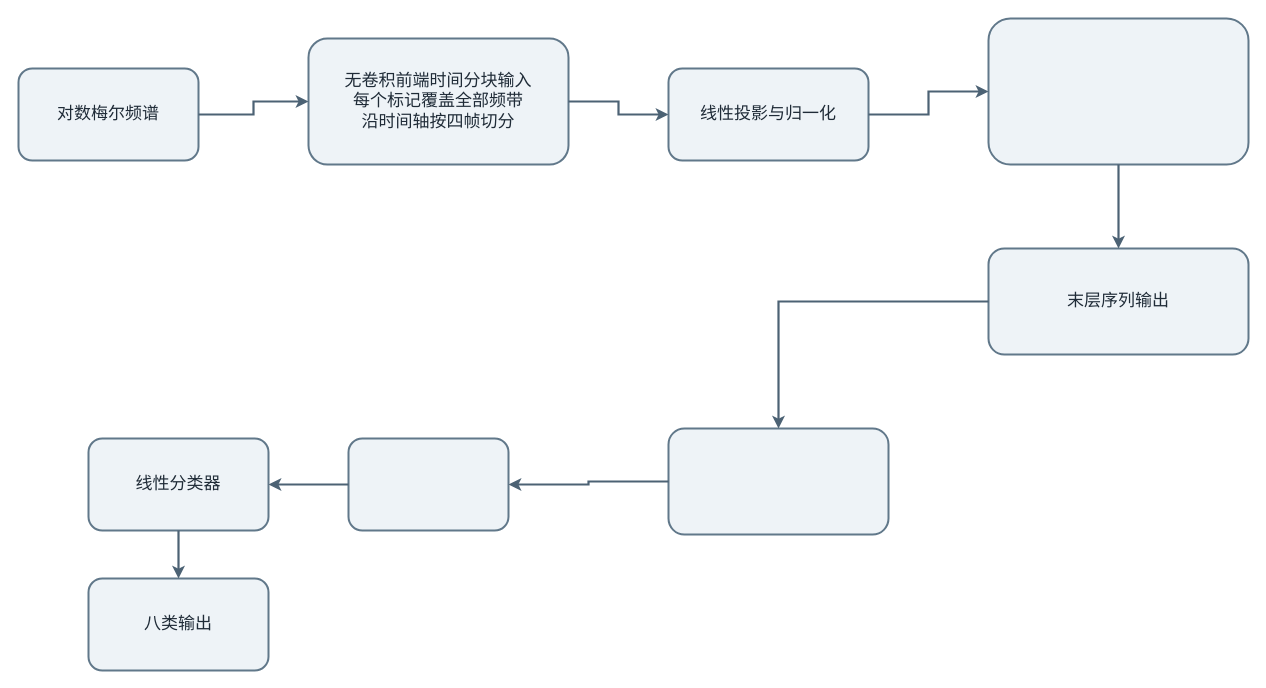
Image size: 1266x688. Some labels were removed from this diagram. The box of each missing label's shape, as (x1, y1, x2, y2) in pixels:
丢弃层: (347, 437, 509, 531)
卷积增强Transformer编码器堆叠 四层重复编码块 相对位置注意力 卷积核三十一: (987, 17, 1249, 165)
注意力池化 压缩为句级表示: (667, 427, 889, 535)
